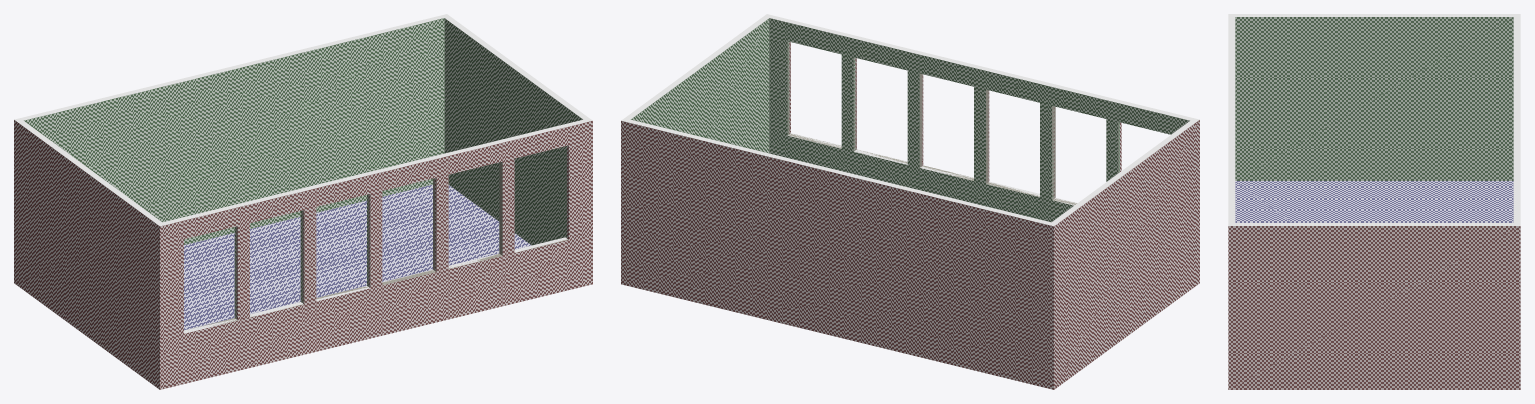
Rendered from WindowedRoom7x4.obj.
3 views of the same model, side by side, from view 1: azimuth 30°, elevation 25°; view 2: azimuth 150°, elevation 25°; view 3: azimuth 270°, elevation 25° (orthographic).
Visible parts, largest first — view 1: wall_1_5, wall_3_16, wall_4_22, room_5_26, wall_2_11, wall_3_17, wall_3_18, wall_1_6, wall_1_7, wall_3_19, wall_2_12, wall_4_24 (+2 smaller); view 2: wall_1_4, wall_4_22, wall_3_17, wall_2_11, wall_3_16, wall_1_6, wall_3_18, wall_3_19, wall_1_7, wall_2_12, wall_4_24, wall_4_25 (+2 smaller); view 3: wall_2_10, wall_4_23, room_5_26, wall_1_7, wall_3_19, wall_1_6, wall_3_18, wall_2_12, wall_4_24, wall_2_13, wall_4_25.
Boxes of the visible parts, box(x1,y1,x2,y2) form: wall_1_5: box(24, 18, 444, 244); wall_3_16: box(160, 120, 592, 389); wall_4_22: box(14, 120, 159, 389); room_5_26: box(184, 184, 531, 330); wall_2_11: box(444, 18, 582, 245); wall_3_17: box(184, 146, 566, 331); wall_3_18: box(160, 120, 591, 226); wall_1_6: box(15, 14, 446, 119); wall_1_7: box(19, 16, 445, 120); wall_3_19: box(161, 119, 587, 224); wall_2_12: box(446, 14, 592, 120); wall_4_24: box(14, 119, 160, 225); wall_1_4: box(621, 120, 1053, 389); wall_4_22: box(1054, 120, 1199, 389); wall_3_17: box(769, 18, 1189, 222); wall_2_11: box(631, 18, 769, 153); wall_3_16: box(789, 42, 1121, 203); wall_1_6: box(622, 120, 1053, 226); wall_3_18: box(767, 14, 1198, 119); wall_3_19: box(768, 16, 1194, 120); wall_1_7: box(626, 119, 1052, 224); wall_2_12: box(621, 14, 767, 120); wall_4_24: box(1053, 119, 1199, 225); wall_4_25: box(1051, 120, 1194, 223); wall_2_10: box(1228, 226, 1520, 389); wall_4_23: box(1235, 17, 1513, 180); room_5_26: box(1235, 181, 1513, 222); wall_1_7: box(1513, 15, 1517, 223); wall_3_19: box(1231, 15, 1235, 223); wall_1_6: box(1517, 14, 1520, 225); wall_3_18: box(1228, 14, 1231, 225); wall_2_12: box(1228, 224, 1520, 225); wall_4_24: box(1229, 14, 1519, 15); wall_2_13: box(1232, 223, 1516, 224); wall_4_25: box(1232, 15, 1516, 16).
Bounding box in the file's own units: 720 × 260 × 420.
